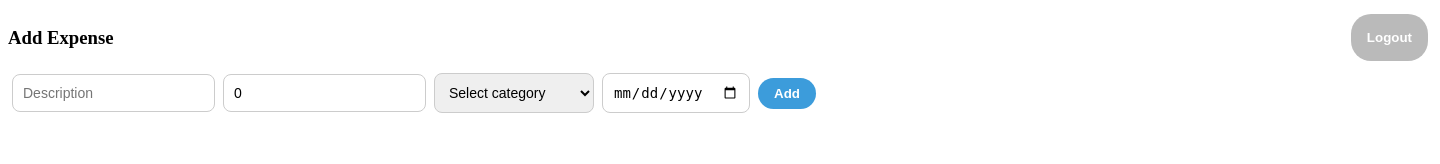
ExpenseForm.vue › handles unexpected error
Type "Any" into the field with placeholder "Description" at (114, 93), box [12,74,215,112]
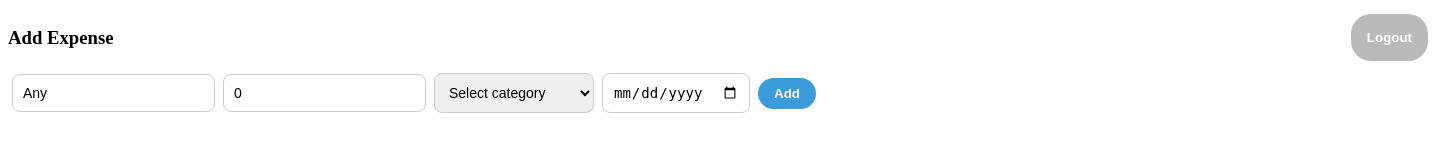
Replace the text in the number field with "50" at (324, 93), box [223,74,426,112]
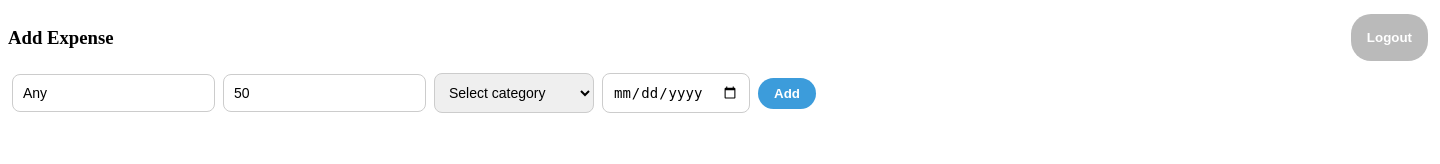
Select "FOOD" in the dropdown at (514, 93), box [434,73,594,113]
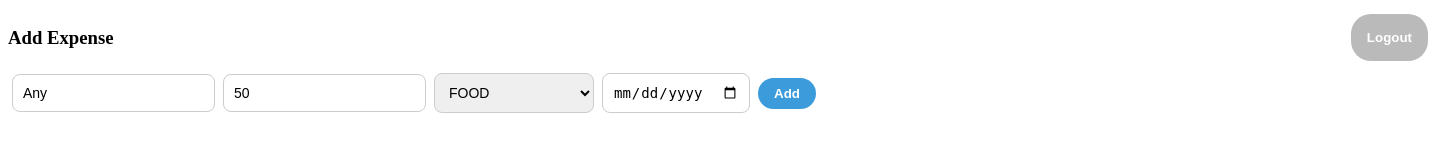
Type "2024-05-01" into the date field at (676, 93), box [602,73,750,113]
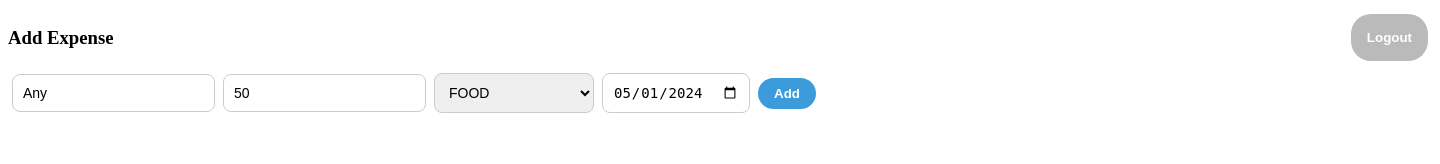
Submit the form, box [12,73,816,113]
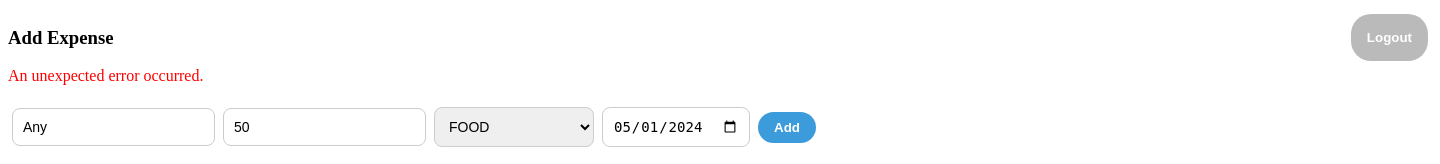
expect the text "An unexpected error occurred." is shown: met, box [8,67,204,84]
